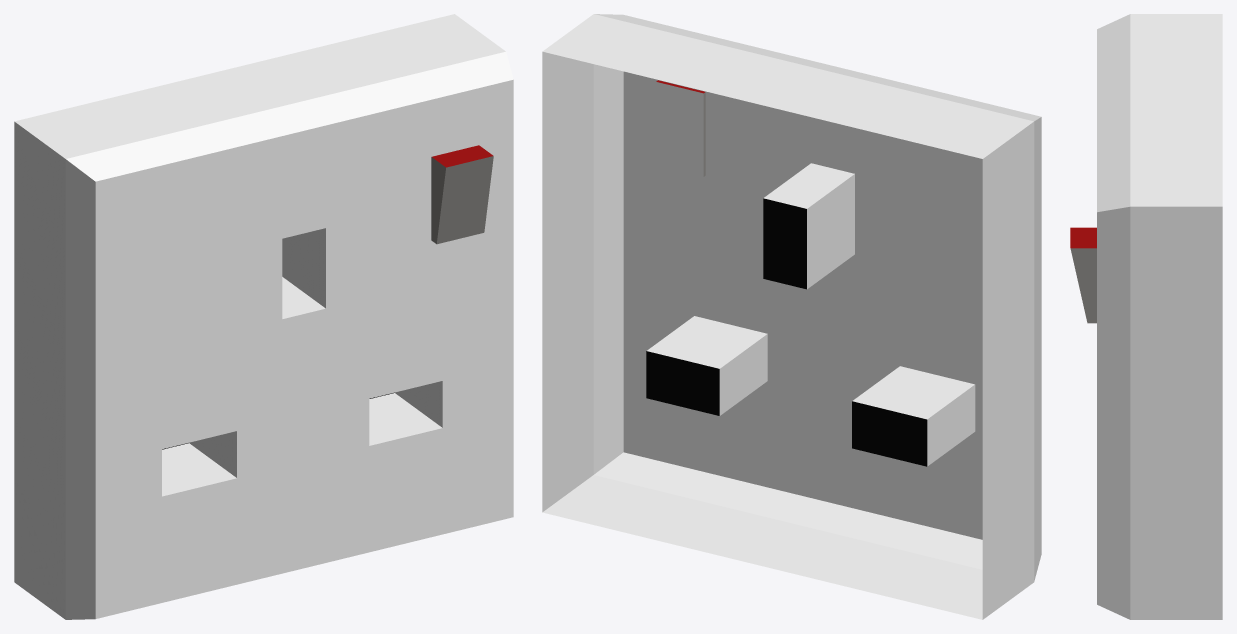
Rendered from Plug_Socket_Single.fbx.
3 renders of one model, left to right at view 1: azimuth 30°, elevation 25°; view 2: azimuth 150°, elevation 25°; view 3: azimuth 270°, elevation 25°, orthographic. The views are drawn at different scales.
Parts seen in each view (by area): view 1: Cube.266; view 2: Cube.266; view 3: Cube.266.
Boxes of the visible parts, <box> form: Cube.266: <box>14,14,513,619</box>; Cube.266: <box>542,14,1041,619</box>; Cube.266: <box>1070,14,1222,619</box>.
Bounding box in the file's own units: 13.86 × 13.86 × 4.62.
